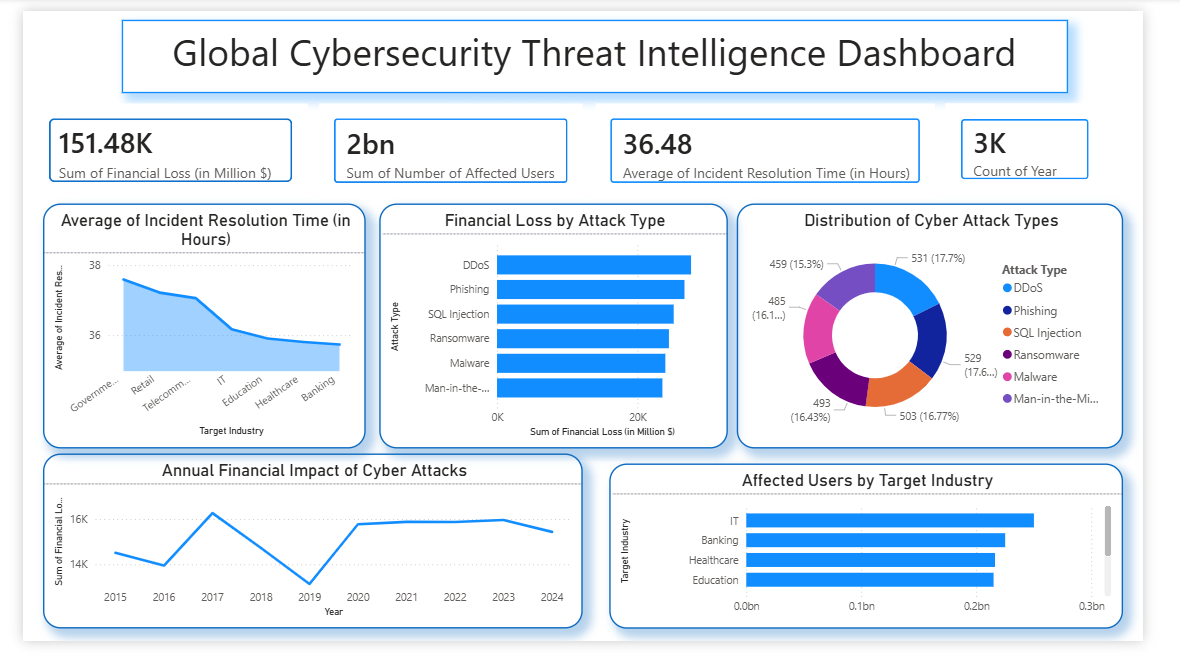

Layout of this report page (visuals, bound fields, positions):
{"tool":"powerbi","page":{"name":"Page 1","canvas":[1280,720],"ordinal":0},"visuals":[{"type":"textbox","box":[112.9,10,1081.4,84.3],"z":0},{"type":"lineChart","title":"Annual Financial Impact of Cyber Attacks","fields":{"Category":["Global_Cybersecurity_Threats_2015-2024.Year"],"Y":["Sum(Global_Cybersecurity_Threats_2015-2024.Financial Loss (in Million $))"]},"box":[22.9,505.7,617.1,200],"z":1000},{"type":"clusteredBarChart","title":"Affected Users by Target Industry","fields":{"Y":["Sum(Global_Cybersecurity_Threats_2015-2024.Number of Affected Users)"],"Category":["Global_Cybersecurity_Threats_2015-2024.Target Industry"]},"box":[670,517.1,587.1,188.6],"z":2000},{"type":"donutChart","title":"Distribution of Cyber Attack Types","fields":{"Category":["Global_Cybersecurity_Threats_2015-2024.Attack Type"],"Y":["CountNonNull(Global_Cybersecurity_Threats_2015-2024.Number of Affected Users)"]},"box":[815.7,220,441.4,280],"z":3000},{"type":"clusteredBarChart","title":"Financial Loss by Attack Type","fields":{"Y":["Sum(Global_Cybersecurity_Threats_2015-2024.Financial Loss (in Million $))"],"Category":["Global_Cybersecurity_Threats_2015-2024.Attack Type"]},"box":[407.1,220,398.6,280],"z":4000},{"type":"areaChart","title":"Average of Incident Resolution Time (in Hours)","fields":{"Category":["Global_Cybersecurity_Threats_2015-2024.Target Industry"],"Y":["Avg(Global_Cybersecurity_Threats_2015-2024.Incident Resolution Time (in Hours))"]},"box":[22.9,220,368.6,280],"z":5000},{"type":"cardVisual","fields":{"Data":["Sum(Global_Cybersecurity_Threats_2015-2024.Financial Loss (in Million $))"]},"box":[12.7,105.5,312.7,107.3],"z":6000},{"type":"cardVisual","fields":{"Data":["Sum(Global_Cybersecurity_Threats_2015-2024.Number of Affected Users)"]},"box":[339,105,301,108],"z":7000},{"type":"cardVisual","fields":{"Data":["CountNonNull(Global_Cybersecurity_Threats_2015-2024.Year)"]},"box":[1053.6,105.5,182.7,105.5],"z":8000},{"type":"cardVisual","fields":{"Data":["Avg(Global_Cybersecurity_Threats_2015-2024.Incident Resolution Time (in Hours))"]},"box":[654,105,388,108],"z":9000}]}

Visuals, with their boxes in screenshot pixels (x1, y1, x2, y2), scaled from the page's 1280x720 canvas onto the 1180x660 screenshot:
textbox: [104, 9, 1101, 86]
"Annual Financial Impact of Cyber Attacks" lineChart: [21, 464, 590, 647]
"Affected Users by Target Industry" clusteredBarChart: [618, 474, 1159, 647]
"Distribution of Cyber Attack Types" donutChart: [752, 202, 1159, 458]
"Financial Loss by Attack Type" clusteredBarChart: [375, 202, 743, 458]
"Average of Incident Resolution Time (in Hours)" areaChart: [21, 202, 361, 458]
cardVisual - Sum(Global_Cybersecurity_Threats_2015-2024.Financial Loss (in Million $)): [12, 97, 300, 195]
cardVisual - Sum(Global_Cybersecurity_Threats_2015-2024.Number of Affected Users): [313, 96, 590, 195]
cardVisual - CountNonNull(Global_Cybersecurity_Threats_2015-2024.Year): [971, 97, 1140, 193]
cardVisual - Avg(Global_Cybersecurity_Threats_2015-2024.Incident Resolution Time (in Hours)): [603, 96, 961, 195]
